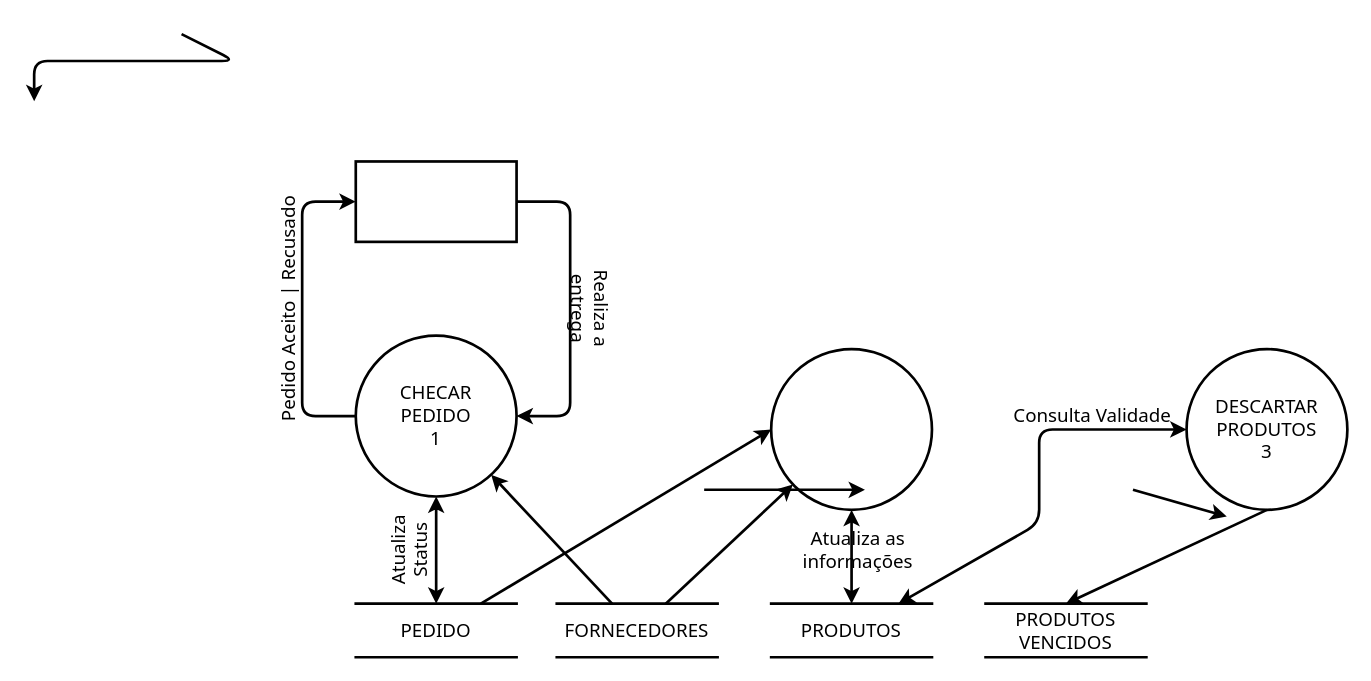
This 1371x681 diagram has some shape labels left out. Here are the shapes that lost their labels. From the top down, the centre of each, then its label:
pixel 435 201: FORNECEDOR
pixel 851 429: GERENCIAR PRODUTOS 2
